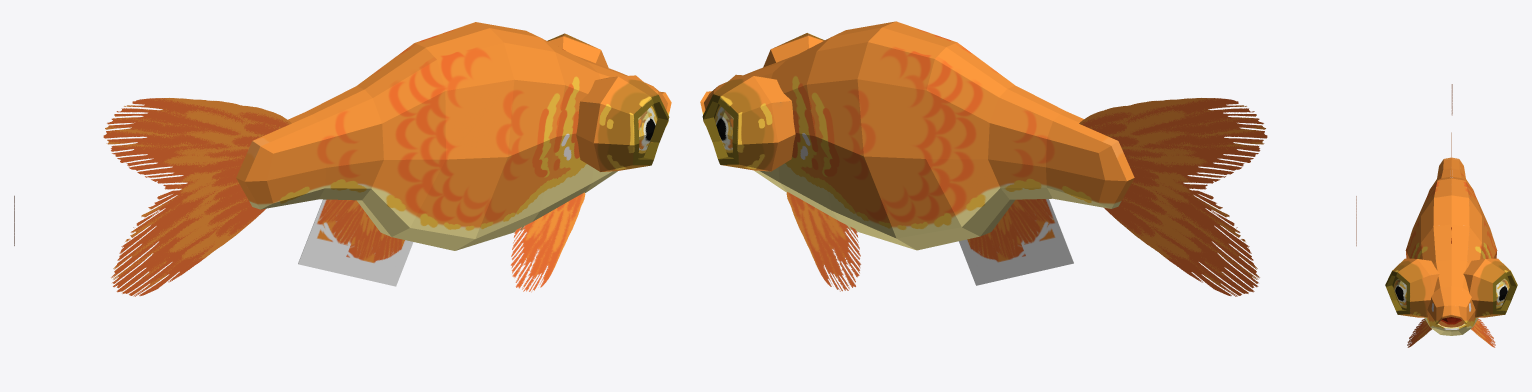
File: fishmodel.fbx
3 renders of one model, left to right at view 1: azimuth 30°, elevation 25°; view 2: azimuth 150°, elevation 25°; view 3: azimuth 270°, elevation 25°, orthographic. The views are drawn at different scales.
Visible parts, largest first — view 1: FishBody, FishTail, FishBigFin, FishSmallFins; view 2: FishBody, FishTail, FishBigFin, FishSmallFins; view 3: FishBody, FishSmallFins.
Boxes of the visible parts, left/top/right/bottom form: FishBody: left=236, top=22, right=671, bottom=250; FishTail: left=14, top=98, right=291, bottom=296; FishBigFin: left=298, top=199, right=413, bottom=286; FishSmallFins: left=510, top=192, right=585, bottom=292; FishBody: left=700, top=21, right=1134, bottom=250; FishTail: left=1079, top=98, right=1356, bottom=296; FishBigFin: left=959, top=199, right=1073, bottom=285; FishSmallFins: left=786, top=192, right=861, bottom=291; FishBody: left=1385, top=157, right=1517, bottom=335; FishSmallFins: left=1407, top=319, right=1495, bottom=347.
Size of the model in its own units: 547 by 255 by 156.
Materials: 5 (5 with a texture image).
